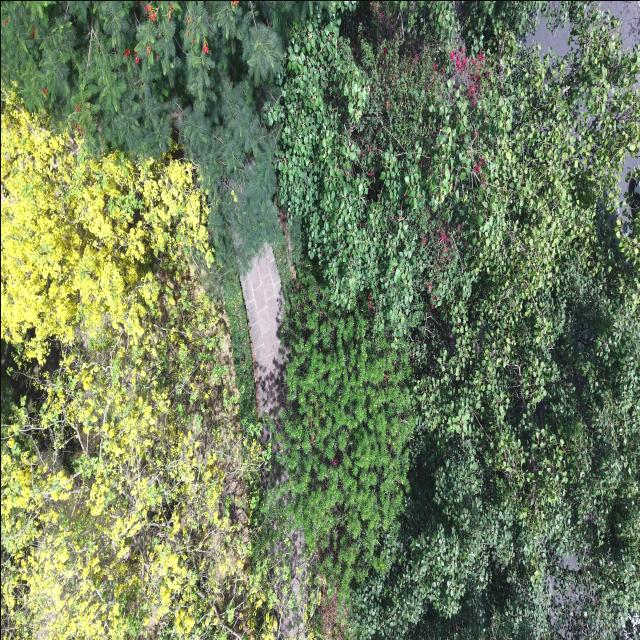DRY_AREA: (601, 1, 639, 49)
PATHWAYS: (241, 245, 285, 416), (242, 245, 284, 415)
VEGETATION_TREE: (1, 1, 639, 639), (276, 4, 639, 638), (1, 93, 270, 639), (278, 14, 637, 336), (1, 1, 309, 263), (1, 91, 211, 363), (278, 265, 414, 588), (389, 1, 582, 51)
